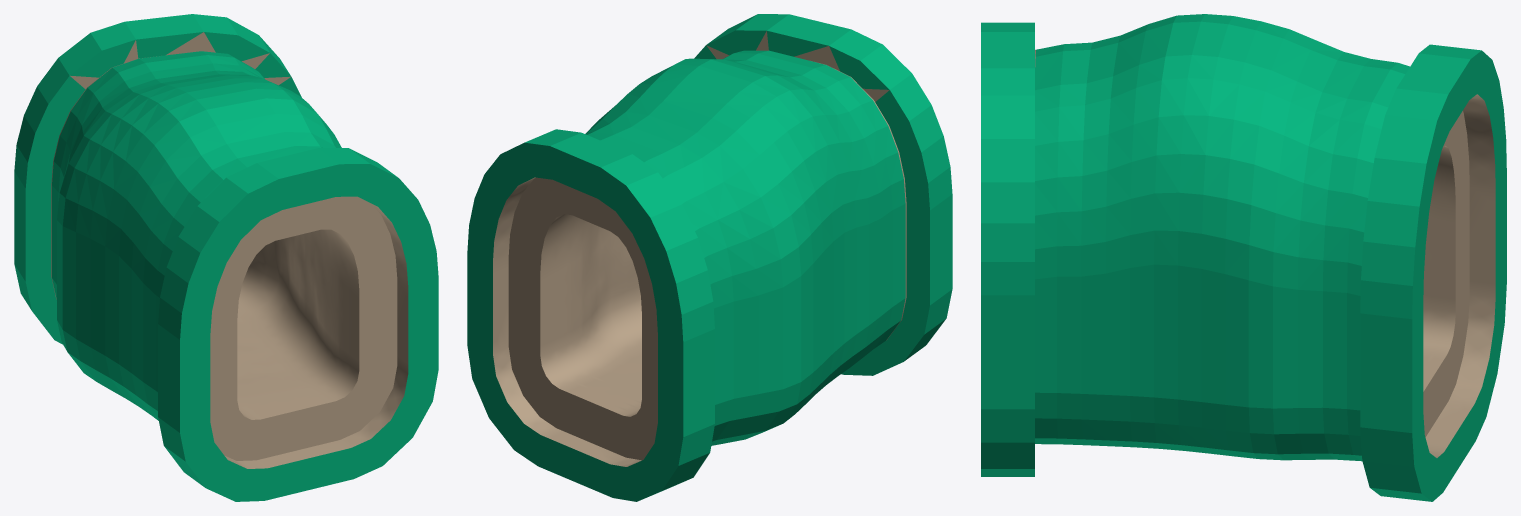
The picture shows the model from 3 angles, left to right: view 1: azimuth 30°, elevation 25°; view 2: azimuth 150°, elevation 25°; view 3: azimuth 270°, elevation 25°; orthographic projection. The views are drawn at different scales.
Parts seen in each view (by area): view 1: TT_Curve_15_LOD0; view 2: TT_Curve_15_LOD0; view 3: TT_Curve_15_LOD0.
Boxes of the visible parts, x1,y1,x2,y2 form: TT_Curve_15_LOD0: [14, 14, 438, 501]; TT_Curve_15_LOD0: [467, 14, 952, 501]; TT_Curve_15_LOD0: [981, 14, 1506, 501].
Bounding box in the file's own units: 393 × 415 × 489.
